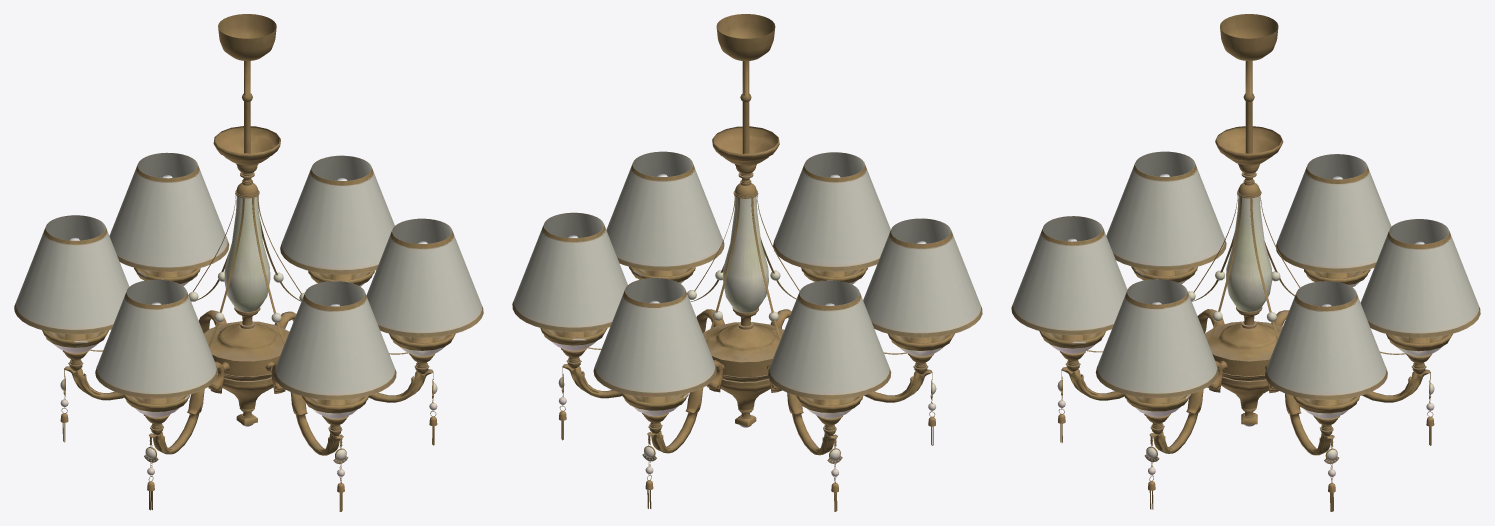
File: chandelier-01.glb
3 renders of one model, left to right at view 1: azimuth 30°, elevation 25°; view 2: azimuth 150°, elevation 25°; view 3: azimuth 270°, elevation 25°, orthographic.
Parts seen in each view (by area): view 1: Chandelier_01; view 2: Chandelier_01; view 3: Chandelier_01.
Boxes of the visible parts, left/top/right/bottom form: Chandelier_01: left=14, top=14, right=483, bottom=511; Chandelier_01: left=512, top=14, right=982, bottom=511; Chandelier_01: left=1011, top=14, right=1480, bottom=511.
Bounding box in the file's own units: 0.7465 × 0.7982 × 0.8155.
Materials: 2 (1 with a texture image).
